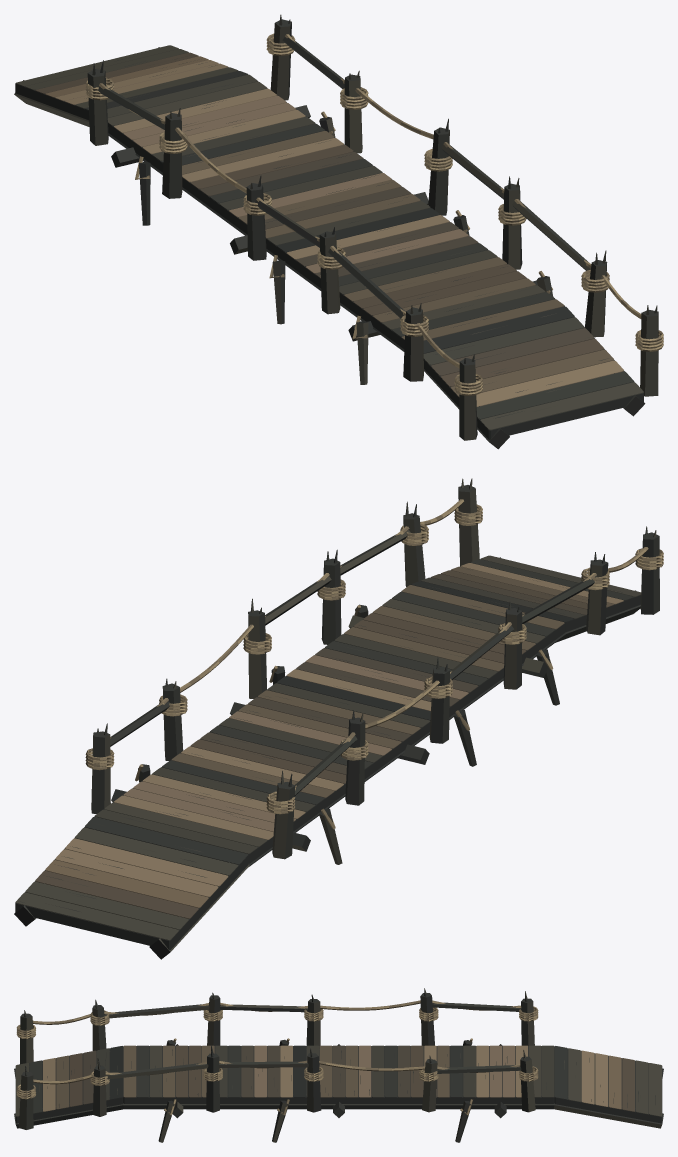
File: area4-w2-timber-bridge.glb
The picture shows the model from 3 angles, top to bottom: view 1: azimuth 30°, elevation 25°; view 2: azimuth 150°, elevation 25°; view 3: azimuth 270°, elevation 25°; orthographic projection. The views are drawn at different scales.
Parts seen in each view (by area): view 1: W2_CharredTimberAndRepairs, W2_RopeLashings; view 2: W2_CharredTimberAndRepairs, W2_RopeLashings; view 3: W2_CharredTimberAndRepairs, W2_RopeLashings.
Part boxes in pixels (left/top/right/bottom): W2_CharredTimberAndRepairs: left=14, top=14, right=658, bottom=449; W2_RopeLashings: left=85, top=33, right=663, bottom=395; W2_CharredTimberAndRepairs: left=14, top=478, right=659, bottom=959; W2_RopeLashings: left=85, top=499, right=663, bottom=829; W2_CharredTimberAndRepairs: left=14, top=988, right=663, bottom=1142; W2_RopeLashings: left=16, top=1000, right=538, bottom=1115.
Size of the model in its own units: 4.49 by 2.91 by 18.09.
